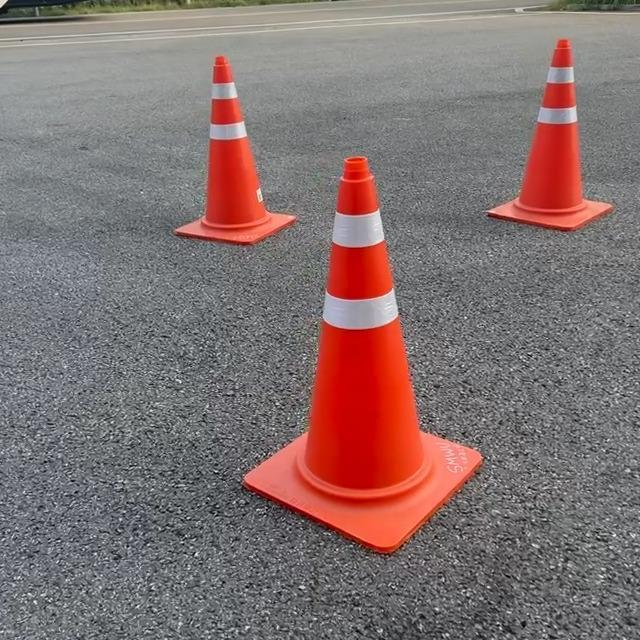fallen_object: (245, 142, 488, 577), (157, 43, 289, 282), (477, 42, 601, 255)
